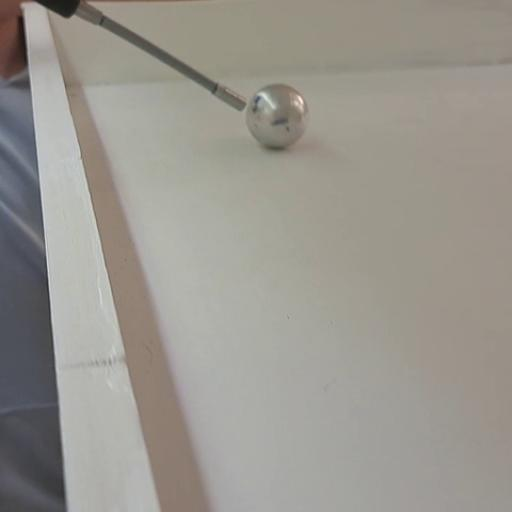alive: (246, 83, 310, 149)
